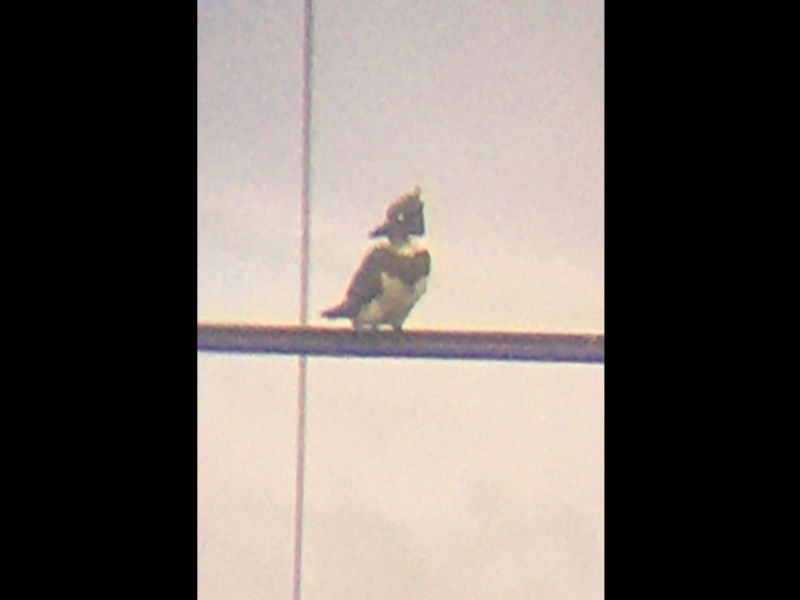kingfisher: (319, 185, 433, 333)
